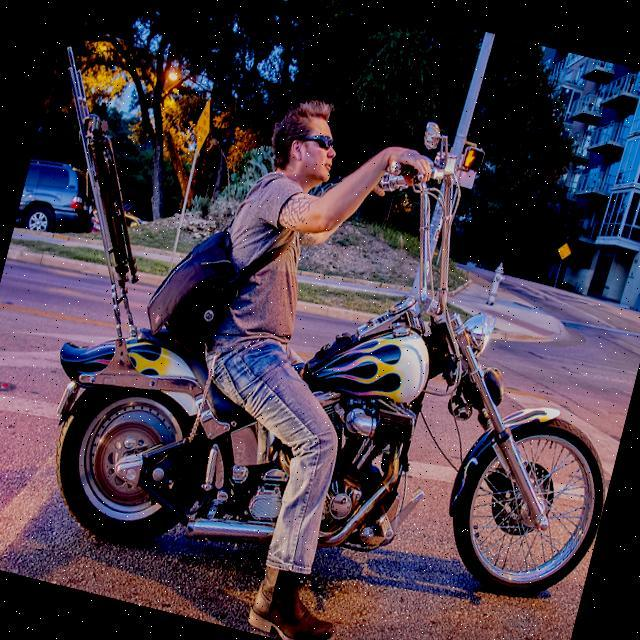fire_hydrant: (486, 260, 510, 306)
